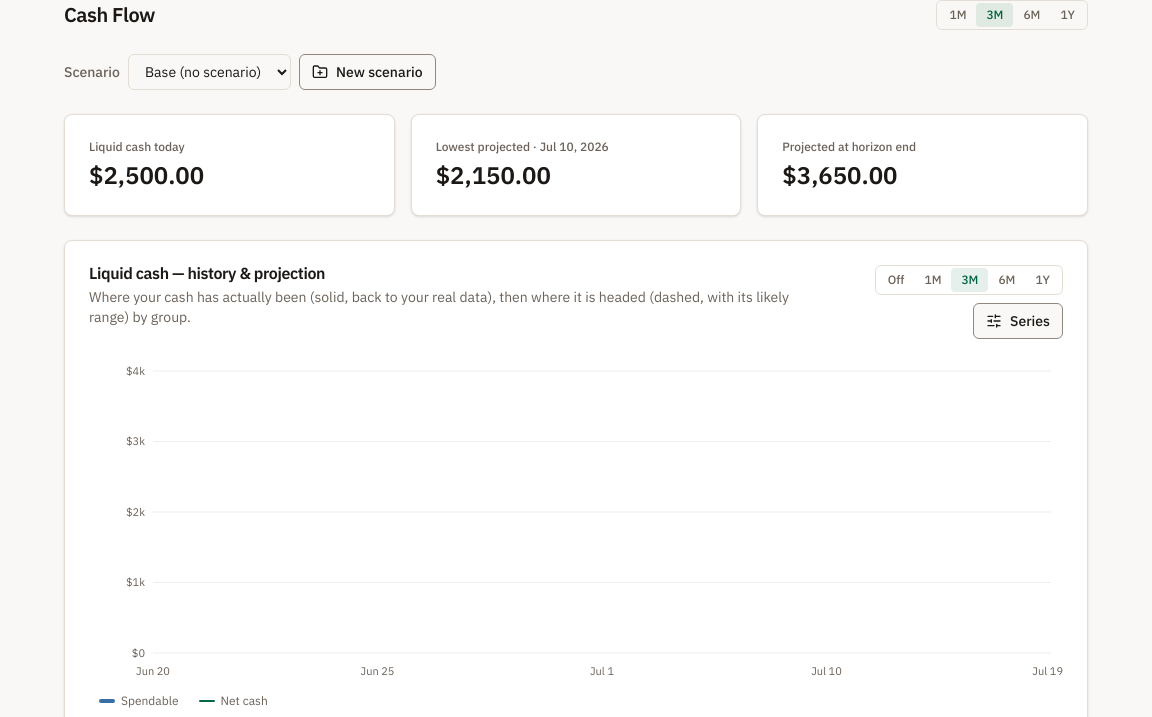
Test: FutureCashView › switches to a scenario and shows the compare-vs-base delta (6zep)
Expected: the element named "projected liquid cash" is shown, [89,363,1063,711]
Select "Raise" in the dropdown labelled "Scenario". click: (210, 72)
box: [128,54,291,90]
(page scrolled)
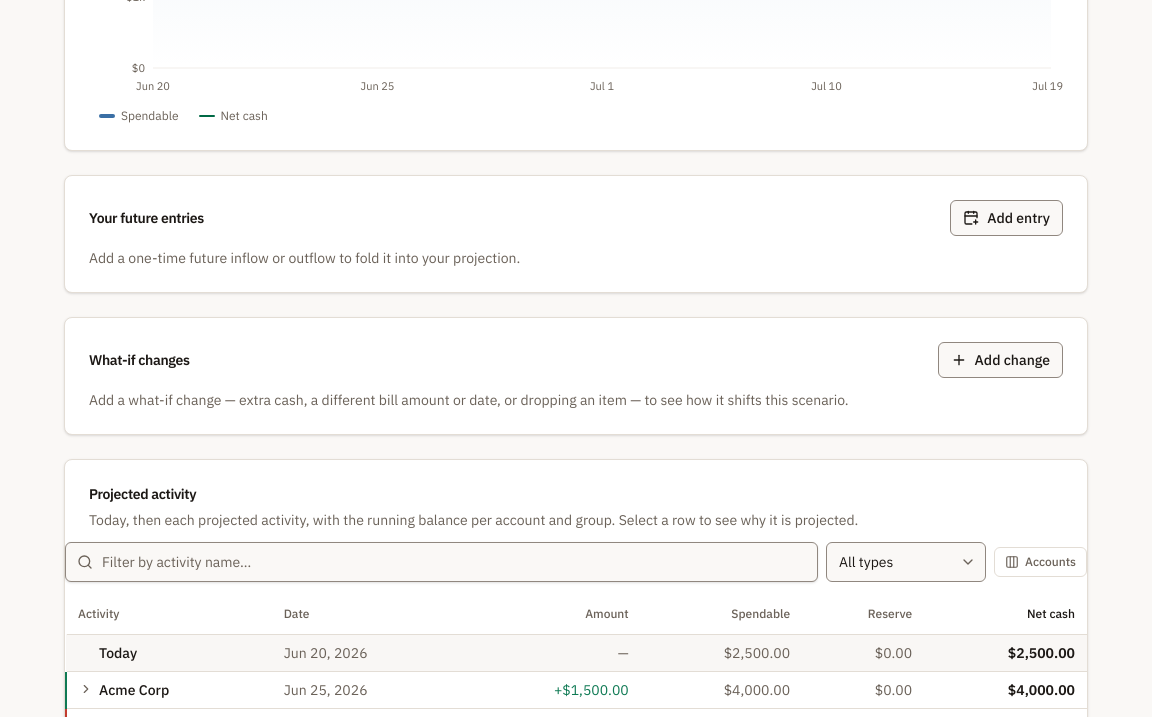
Expected: the text "What-if changes" is shown, [89,350,190,370]
